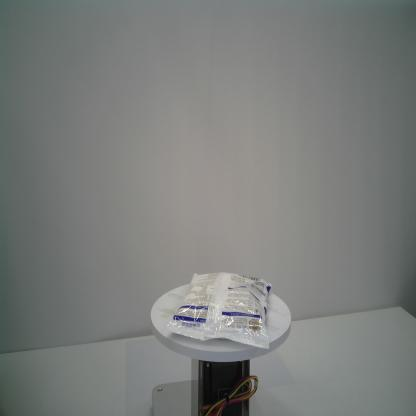Seasoner: (165, 269, 274, 351)
